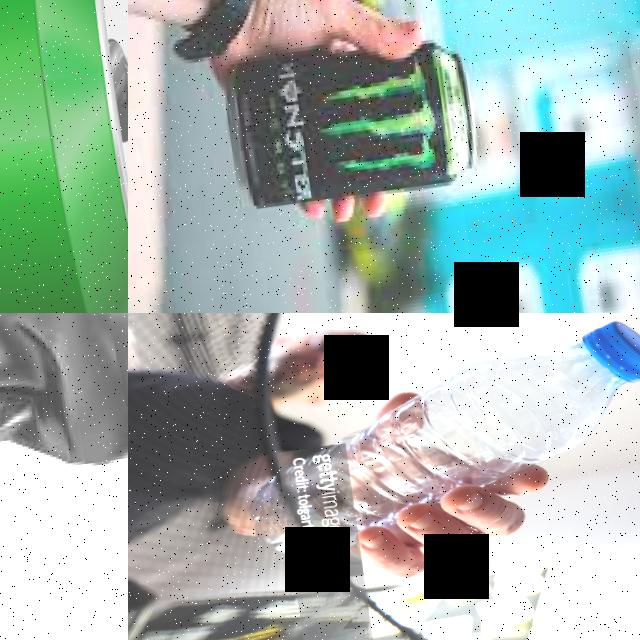bottle: (227, 314, 640, 569)
can: (216, 27, 482, 217), (0, 0, 128, 313)
